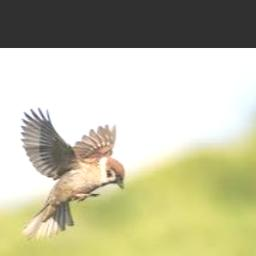Sparrow: (22, 107, 126, 241)
